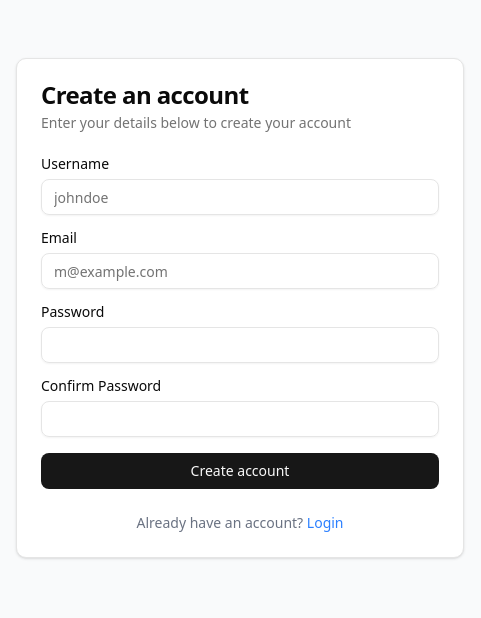
Test: RegisterPage › validates password mismatch
The width and height of the screenshot is (481, 618).
Type "password123" into the password field labelled "Password". click: {"x": 240, "y": 345}
box: [41, 327, 439, 363]
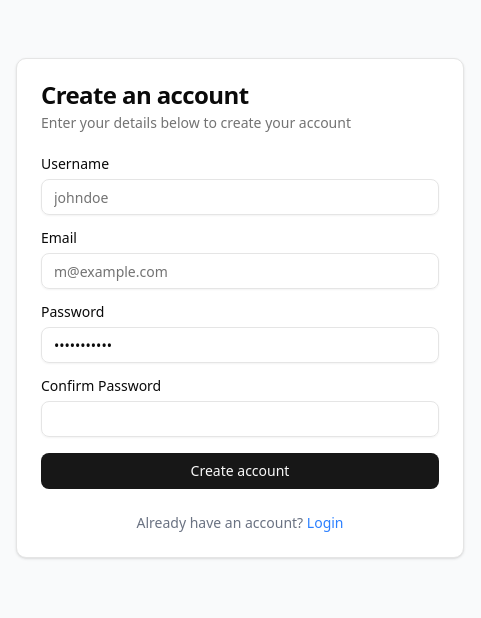
Type "mismatch" into the password field labelled "Confirm Password". click: {"x": 240, "y": 419}
box: [41, 401, 439, 437]
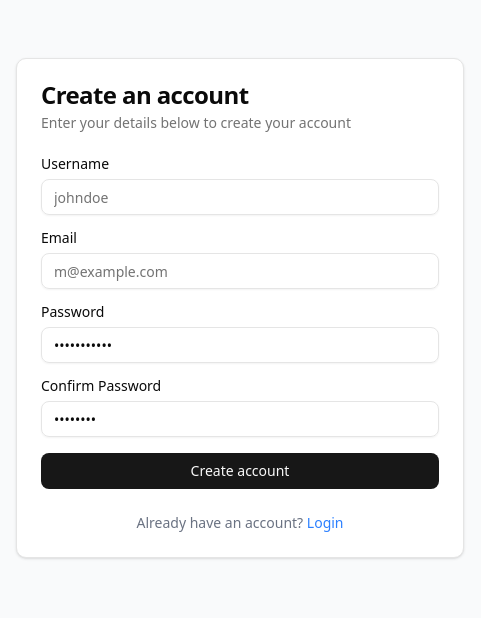
Click the button "Create account". click: {"x": 240, "y": 471}
box: [41, 453, 439, 489]
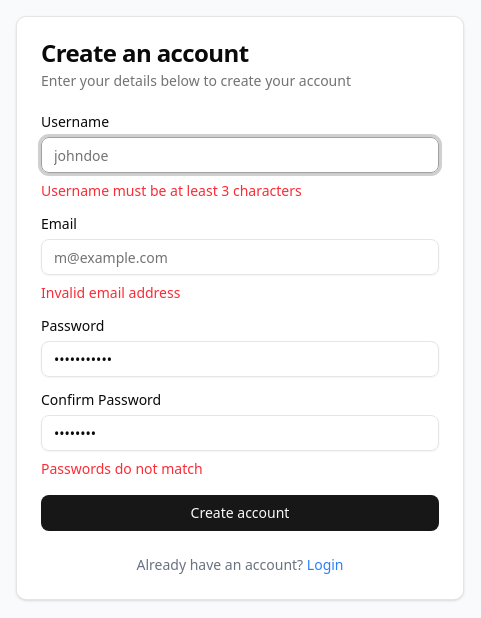
Result: the text "Passwords do not match" is shown at [41, 459, 203, 478]
